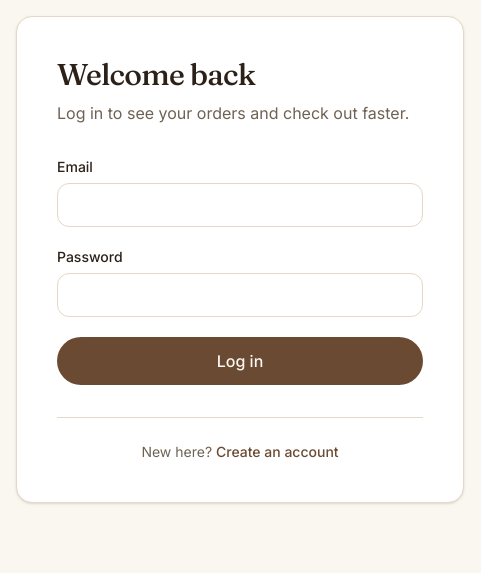
login page › checks the form before sending it
Click the button "Log in" at (240, 361), box [57, 337, 423, 385]
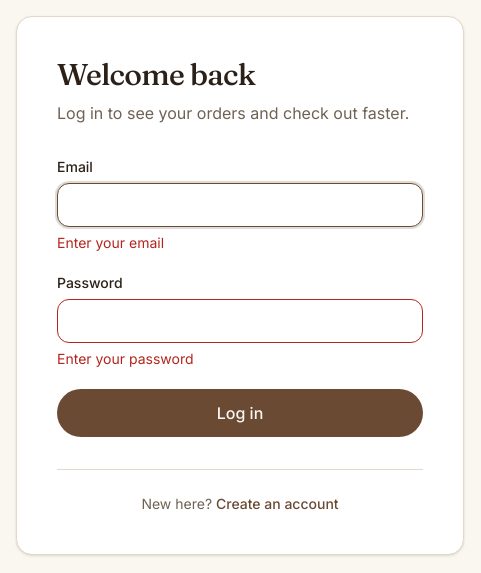
Now the text "Enter your email" is shown, box [57, 234, 164, 251]
Now the text "Enter your password" is shown, box [57, 350, 194, 367]
